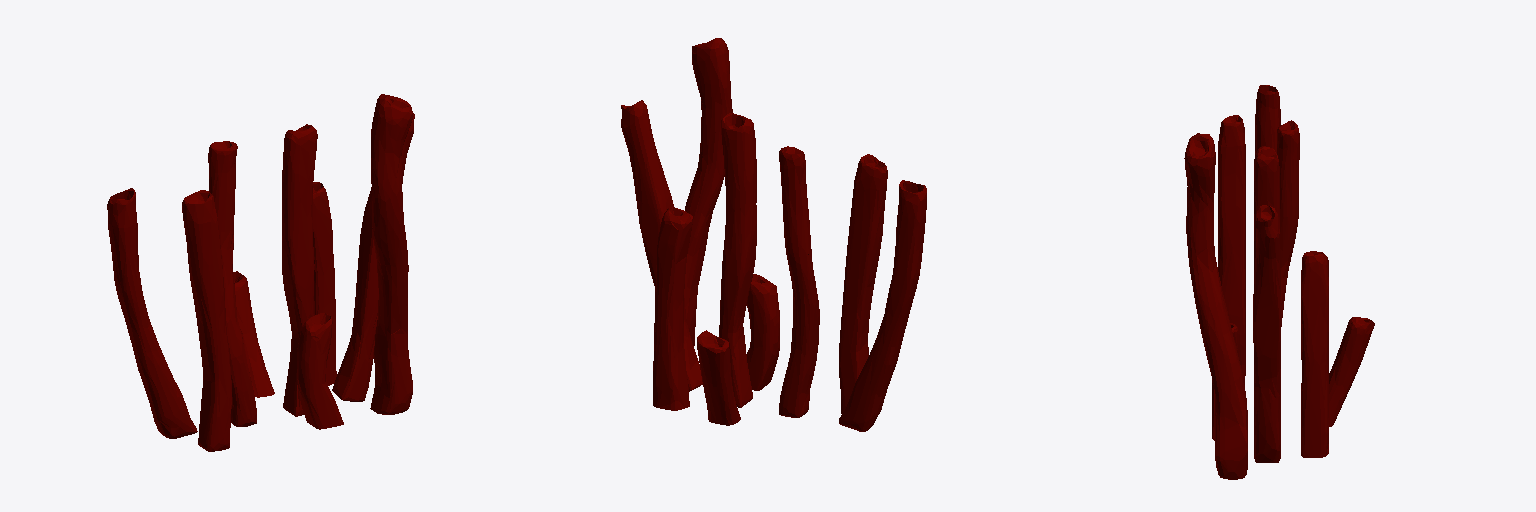
Rendered from TubularCoral_1.obj.
3 views of the same model, side by side, from view 1: azimuth 30°, elevation 25°; view 2: azimuth 150°, elevation 25°; view 3: azimuth 270°, elevation 25° (orthographic).
Parts seen in each view (by area): view 1: pCube12; view 2: pCube12; view 3: pCube12.
Boxes of the visible parts, x1,y1,x2,y2 form: pCube12: [107, 94, 414, 451]; pCube12: [621, 38, 926, 431]; pCube12: [1184, 85, 1374, 479].
Bounding box in the file's own units: 4.02 × 4.21 × 2.19.